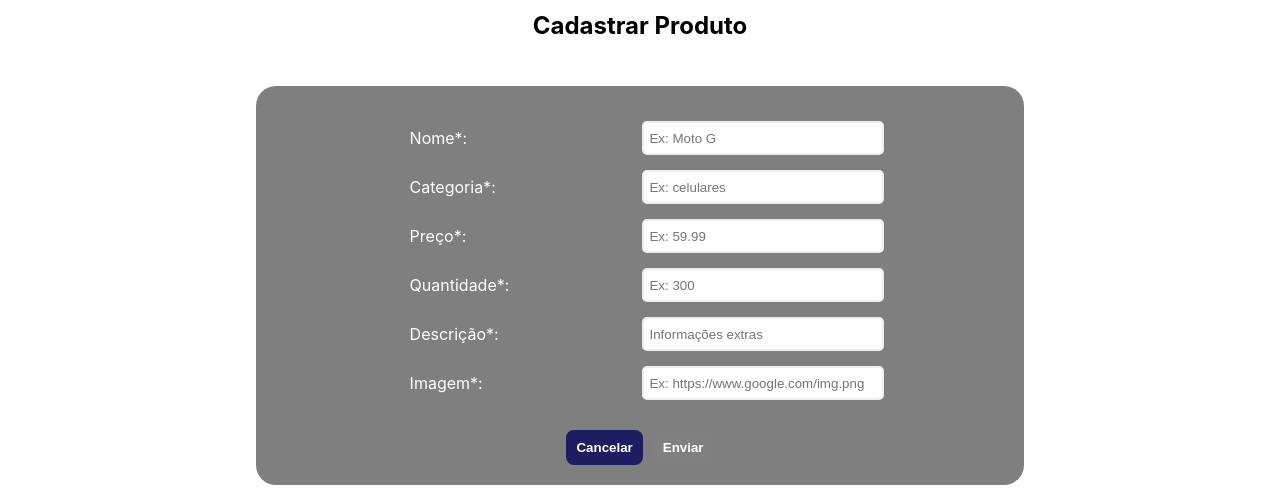
it: Insert a new product › Fill form with valid values and submit
Expected: the button "Enviar" is disabled, [653,430,714,465]
Type "testProduct" into the field labelled "Nome*:".
click(763, 138); type("testProduct")  # box [642,121,884,155]
Type "testCategory" into the field labelled "Categoria*:".
click(763, 187); type("testCategory")  # box [642,170,884,204]
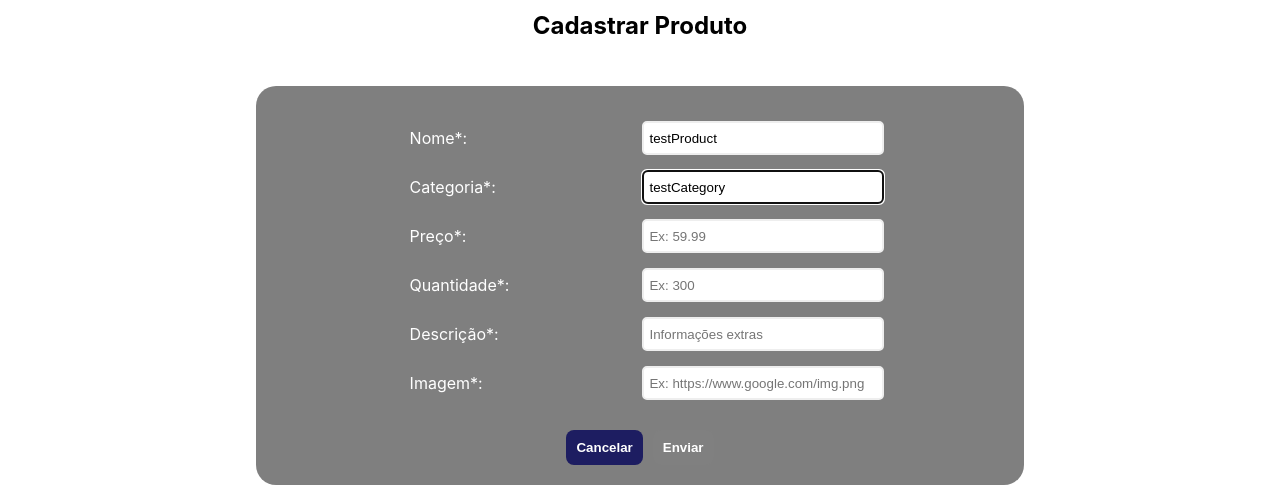
Type "50.45" into the field labelled "Preço*:".
click(763, 236); type("50.45")  # box [642,219,884,253]
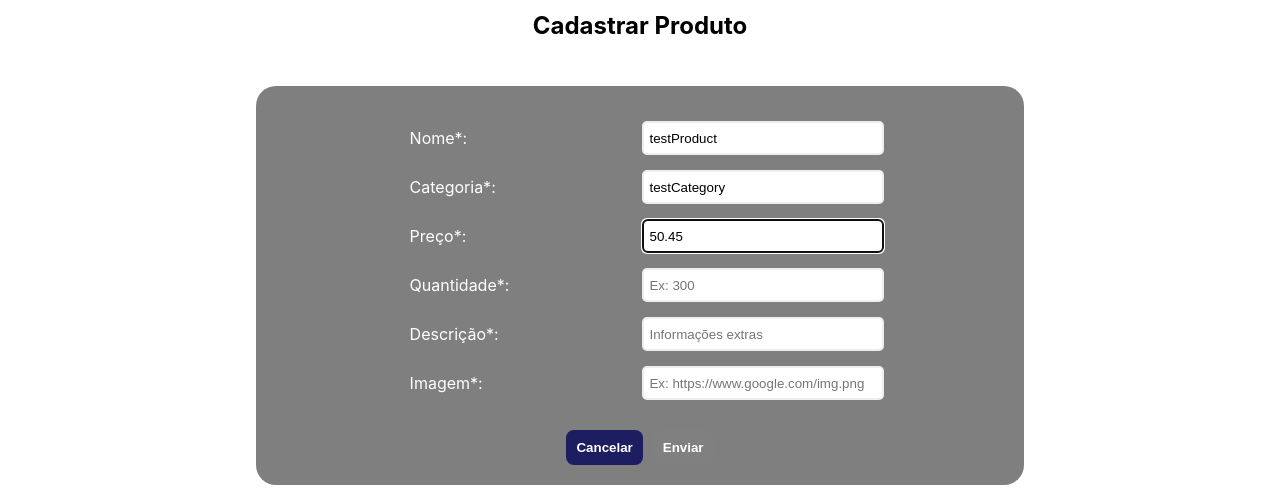
Type "45" into the field labelled "Quantidade*:".
click(763, 285); type("45")  # box [642,268,884,302]
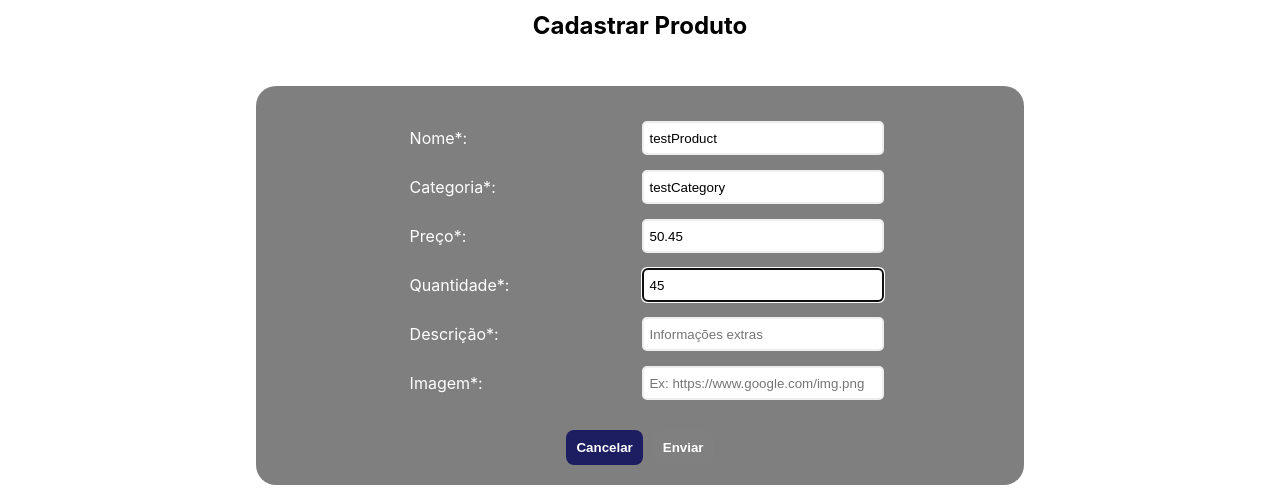
Type "descriptive test" into the field labelled "Descrição*:".
click(763, 334); type("descriptive test")  # box [642,317,884,351]
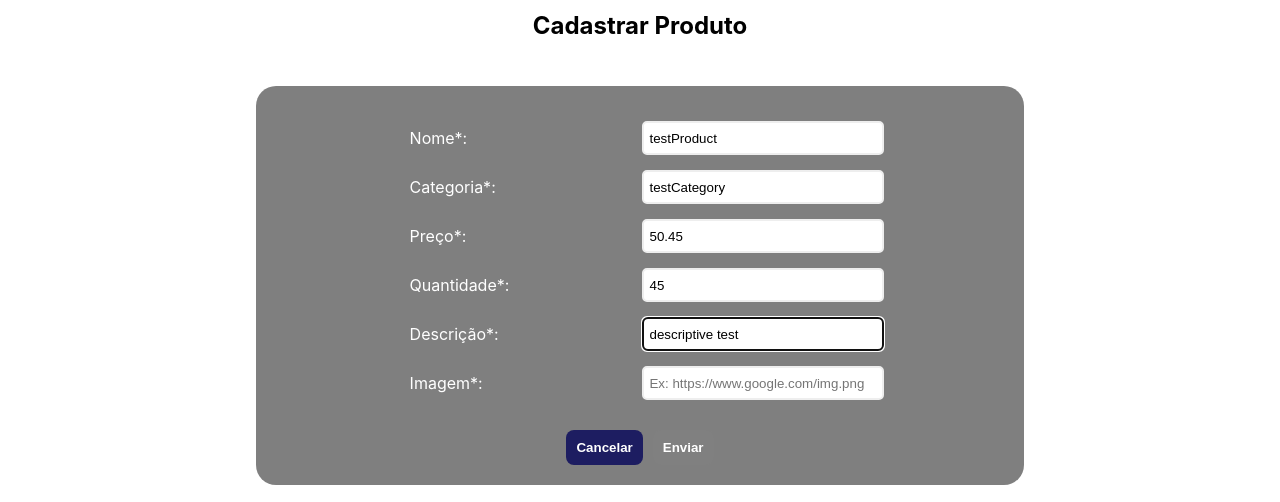
Expected: the button "Enviar" is disabled, [653,430,714,465]
Type "www.placeholder.com/img.png" into the field labelled "Imagem*:".
click(763, 383); type("www.placeholder.com/img.png")  # box [642,366,884,400]
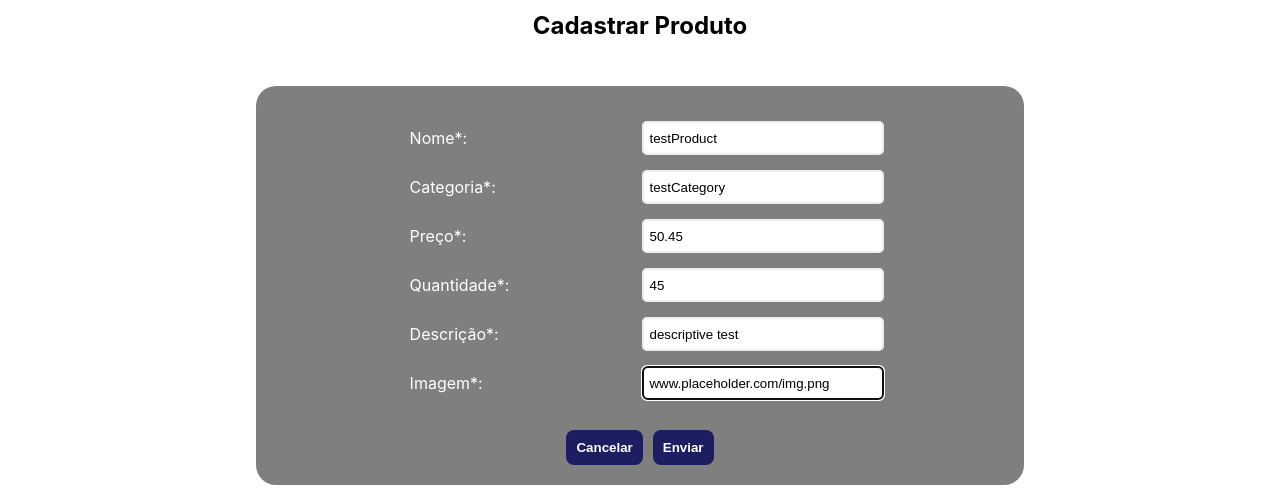
Result: the button "Enviar" is enabled
Click the button "Enviar".
click(683, 448)  # box [653,430,714,465]
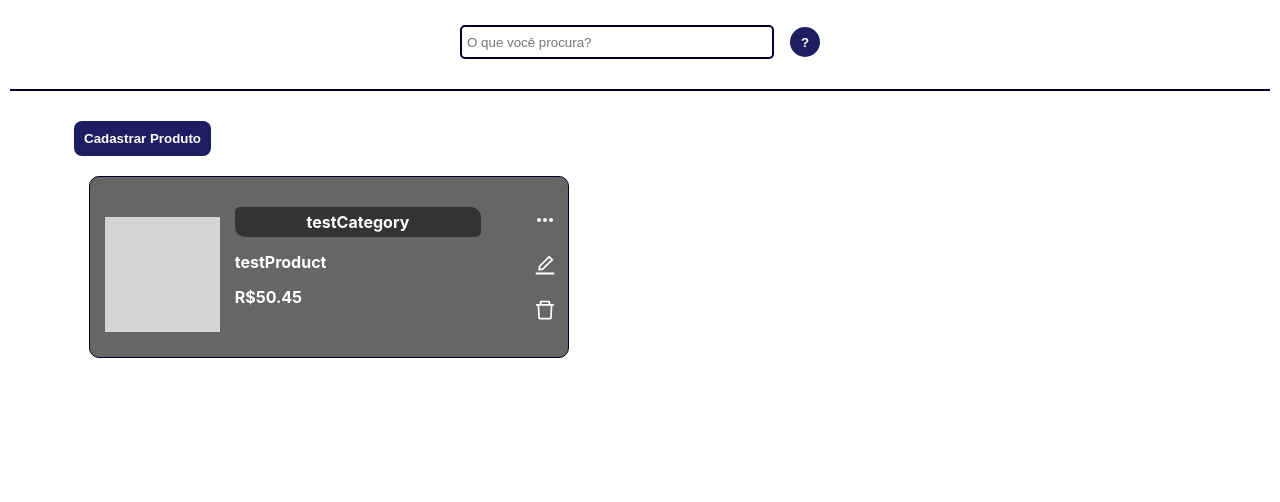
Result: the text "testProduct" is shown at [235,252,326,272]
